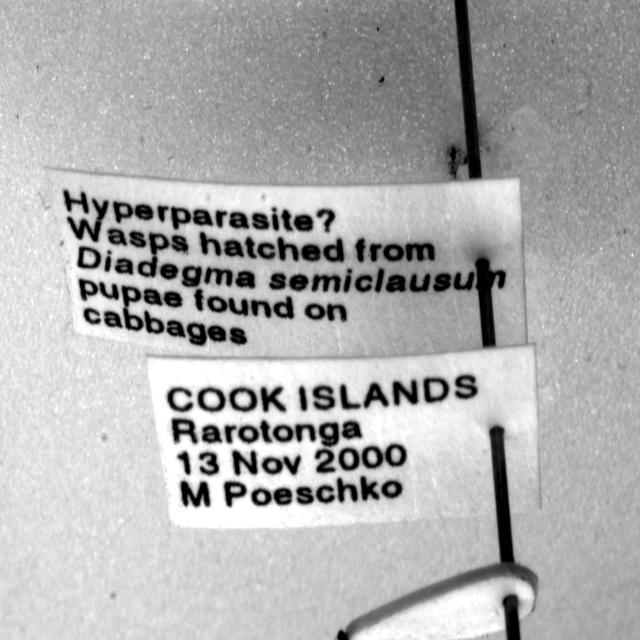typed_label: (48, 169, 526, 358), (148, 345, 541, 529)
